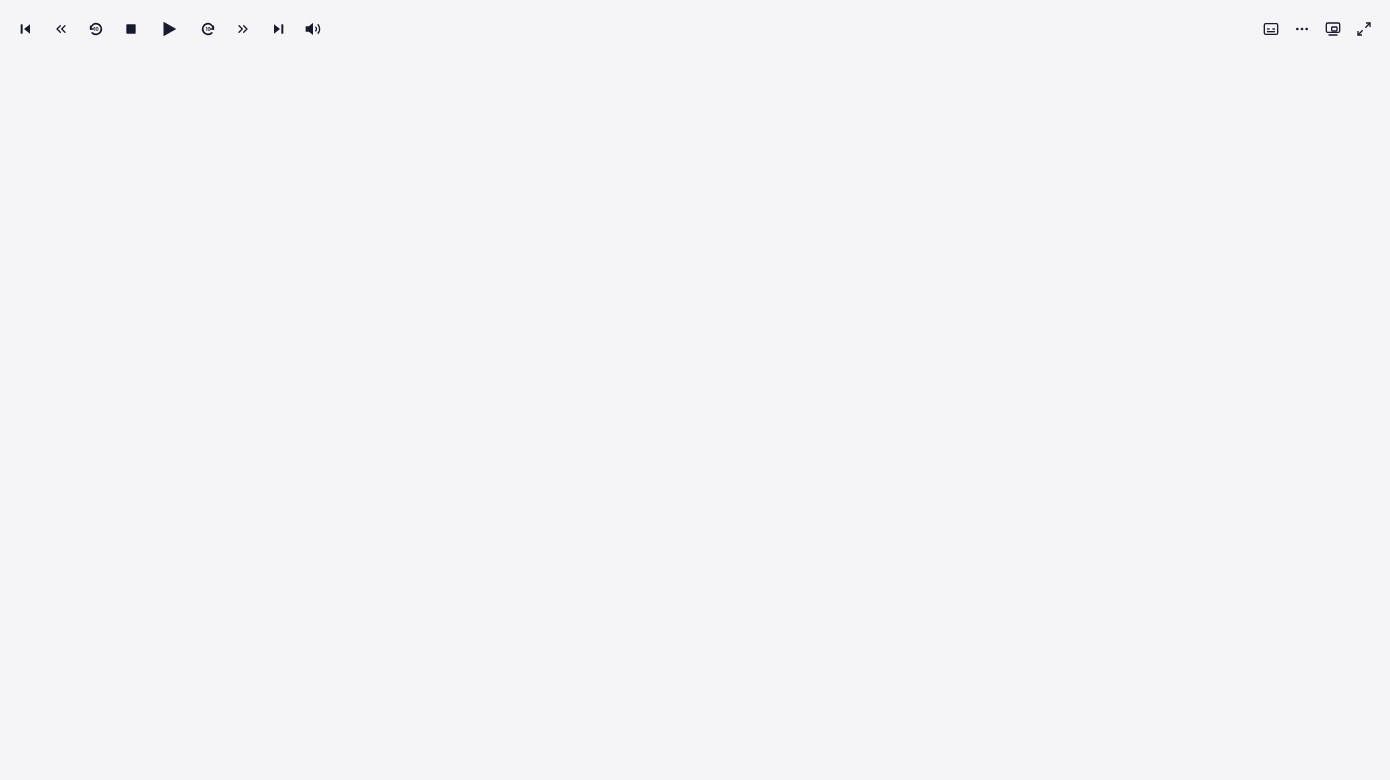
ControlsBottomBar responsive compaction (prexu-52ky) › ~530px (hardware popout logical width — the reported bug size): secondary buttons collapse into overflow, but subtitles, pop-out and fullscreen stay inline and
The image size is (1390, 780).
Expected: the button named "Pop out floating player" is shown, [1320,15,1347,42]
Expected: the button named "Fullscreen" is shown, [1351,15,1378,42]
Click the button named "More controls" at {"x": 1302, "y": 29}, box [1288,15,1316,42]
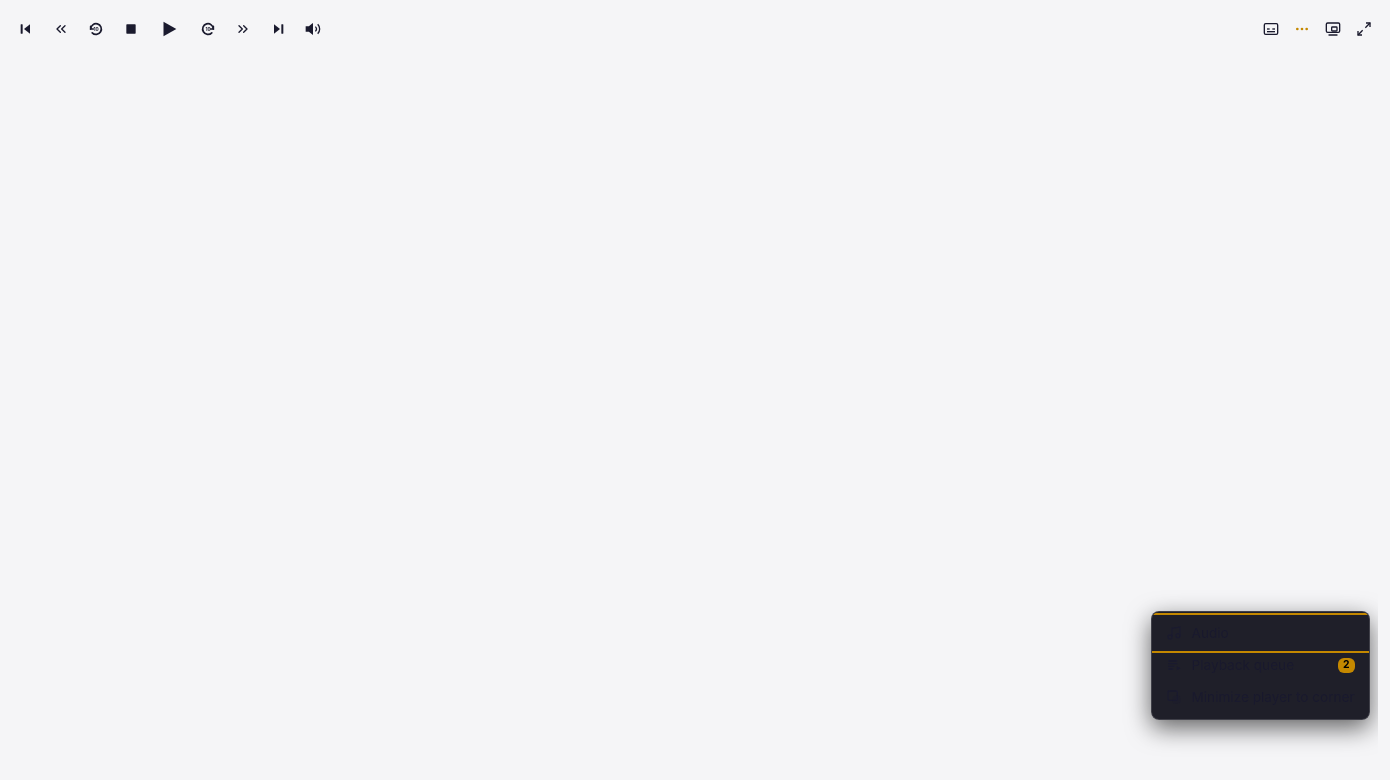
Expected: the menu item "Audio" is shown, [1152,617,1369,649]
Expected: the menu item "Playback queue 2" is shown, [1152,649,1369,681]
Expected: the menu item "Minimize player to corner" is shown, [1152,681,1369,713]
